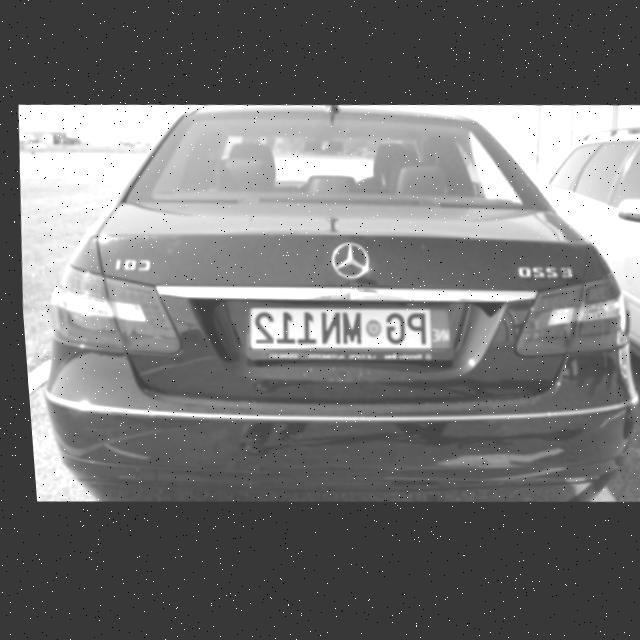license-plates: (249, 309, 448, 350)
